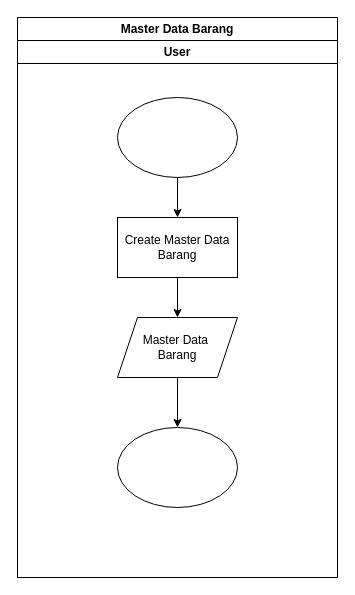
This 355x595 diagram has some shape labels left out. Each missing label, with the box of its shape:
End: (116, 426, 238, 508)
Start: (116, 96, 238, 178)
